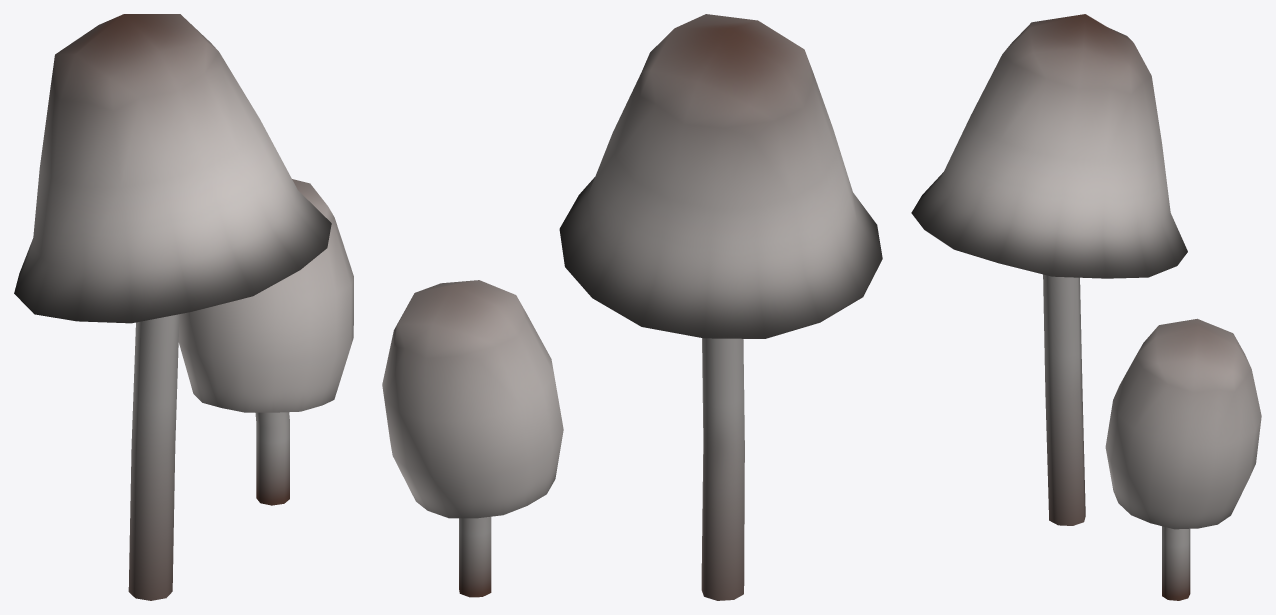
Rendered from Inky_Cap_Group_1.fbx.
3 views of the same model, side by side, from view 1: azimuth 30°, elevation 25°; view 2: azimuth 150°, elevation 25°; view 3: azimuth 270°, elevation 25° (orthographic). The views are drawn at different scales.
Visible parts, largest first — view 1: Inky_Cap_Group_1; view 2: Inky_Cap_Group_1; view 3: Inky_Cap_Group_1.
Part boxes in pixels (box(x1,y1,x2,y2)): Inky_Cap_Group_1: box(14, 14, 353, 600); Inky_Cap_Group_1: box(382, 14, 882, 600); Inky_Cap_Group_1: box(911, 14, 1261, 600).
Size of the model in its own units: 10.77 by 15.16 by 9.68.
